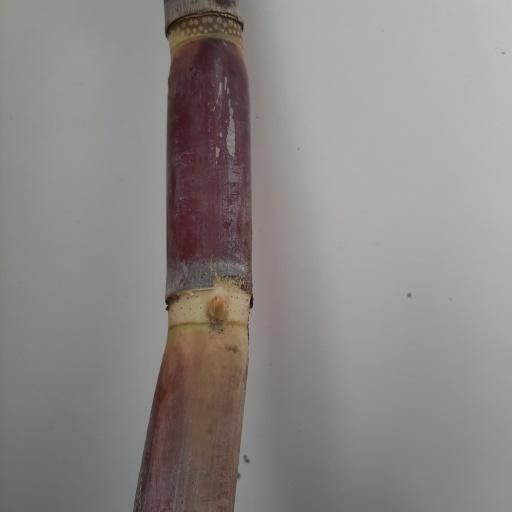Bud: (206, 295, 226, 326)
